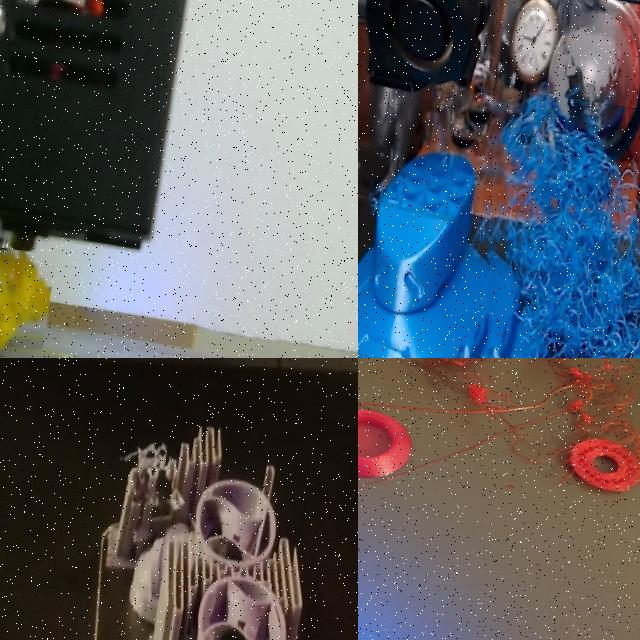spaghetti: (487, 95, 640, 358), (541, 358, 640, 476), (0, 254, 50, 348), (116, 426, 170, 474), (463, 382, 496, 412)
